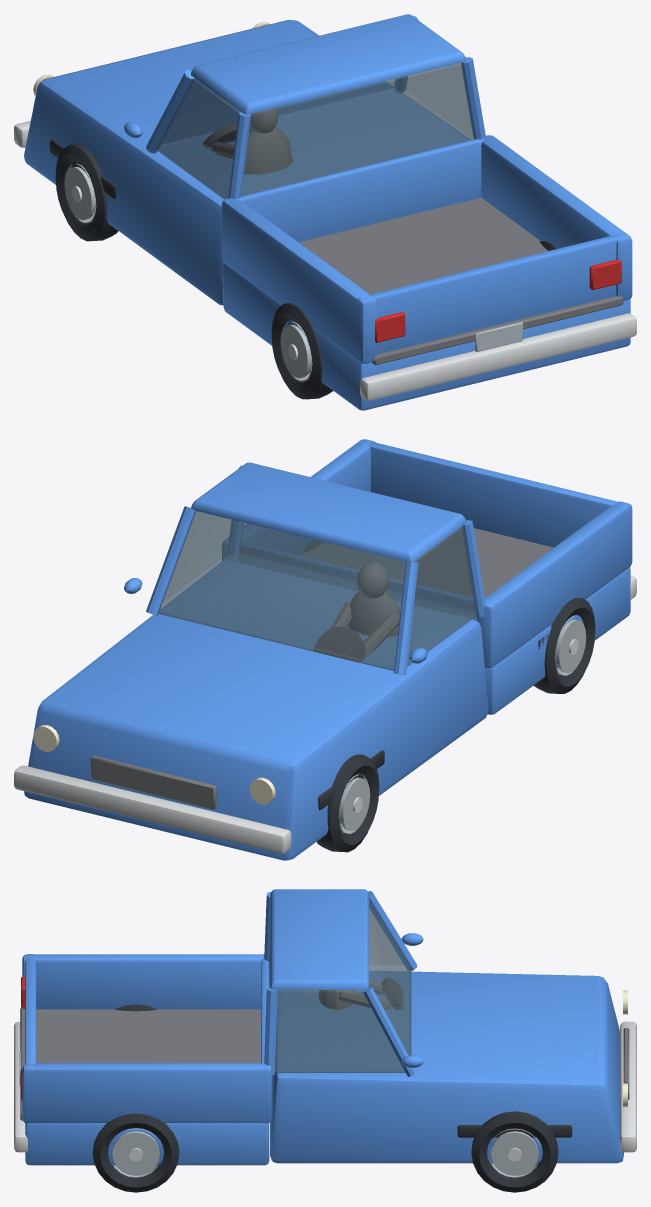
The model's file is TrafficPickup.fbx.
The picture shows the model from 3 angles, top to bottom: view 1: azimuth 30°, elevation 25°; view 2: azimuth 150°, elevation 25°; view 3: azimuth 270°, elevation 25°; orthographic projection. The views are drawn at different scales.
Visible parts, largest first — view 1: Body__paint, Body__glass, Body__engine, Body__chrome, WheelFL__rubber, Body__driver, WheelRL__rubber, Body__tail, WheelRL__metal, WheelFL__metal, Body__metal; view 2: Body__paint, Body__glass, Body__engine, Body__chrome, Body__driver, WheelFL__rubber, WheelRL__rubber, Body__interior, WheelRL__metal, WheelFL__metal, Body__lamp; view 3: Body__paint, Body__engine, Body__glass, WheelFR__rubber, WheelRR__rubber, Body__chrome, WheelFR__metal, WheelRR__metal, Body__driver, Body__rubber, Body__interior.
Part boxes in pixels (x1,y1,x2,y2): Body__paint: (24,14,632,410); Body__glass: (156,63,474,199); Body__engine: (299,197,623,365); Body__chrome: (14,120,636,400); WheelFL__rubber: (55,143,117,241); Body__driver: (210,108,292,174); WheelRL__rubber: (271,303,332,399); Body__tail: (375,259,621,342); WheelRL__metal: (280,321,312,380); WheelFL__metal: (64,163,96,222); Body__metal: (475,322,522,351); Body__paint: (24,439,632,860); Body__glass: (158,511,478,671); Body__engine: (90,528,553,809); Body__chrome: (14,576,636,853); Body__driver: (330,562,400,656); WheelFL__rubber: (317,754,379,852); WheelRL__rubber: (533,598,595,693); Body__interior: (314,627,365,662); WheelRL__metal: (554,616,586,675); WheelFL__metal: (338,774,370,833); Body__lamp: (33,725,275,804); Body__paint: (22,889,623,1165); Body__engine: (20,1008,629,1120); Body__glass: (269,900,411,1072); WheelFR__rubber: (471,1111,558,1192); WheelRR__rubber: (92,1113,179,1192); Body__chrome: (14,1021,636,1152); WheelFR__metal: (488,1128,541,1177); WheelRR__metal: (109,1128,162,1177); Body__driver: (318,979,391,1009); Body__rubber: (457,1125,572,1137); Body__interior: (381,977,403,1009).
Size of the model in its own units: 2.16 by 1.58 by 4.44.
